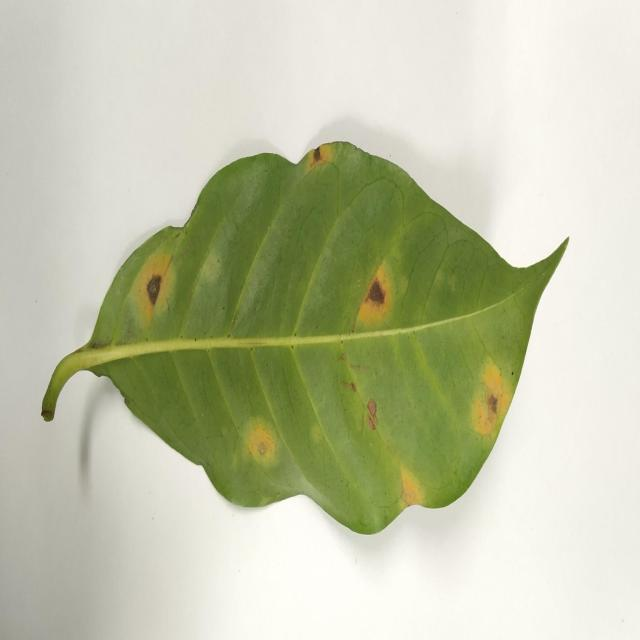Enfermedad-Roya: (40, 140, 569, 538)
